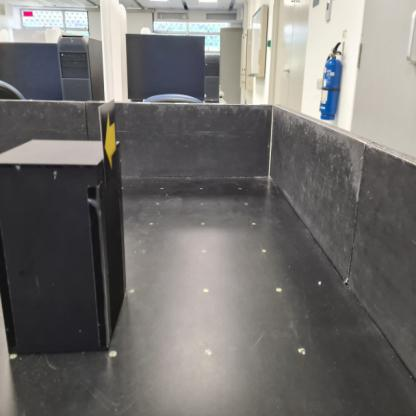right: (99, 98, 122, 190)
